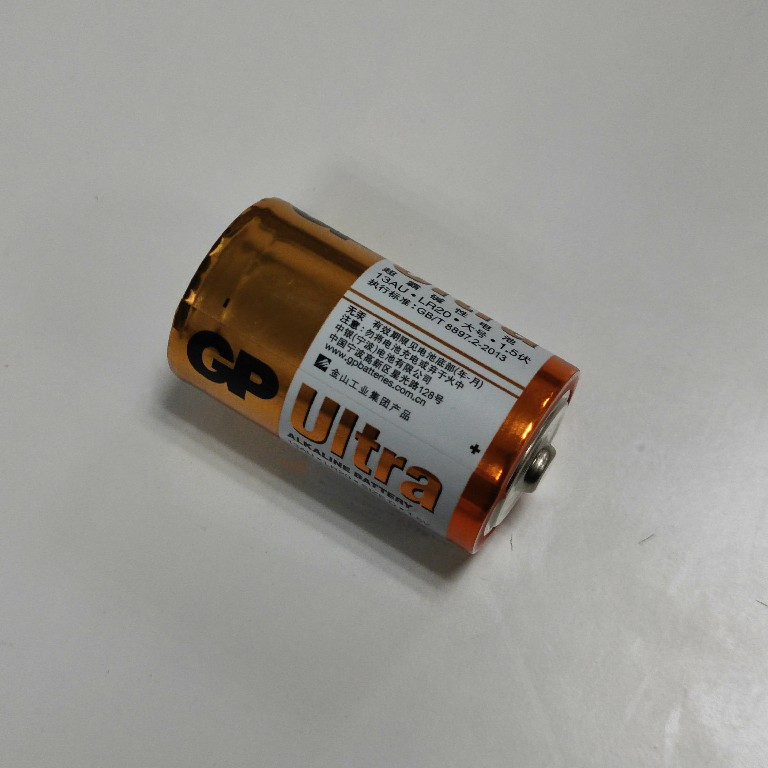charge: (163, 195, 585, 561)
